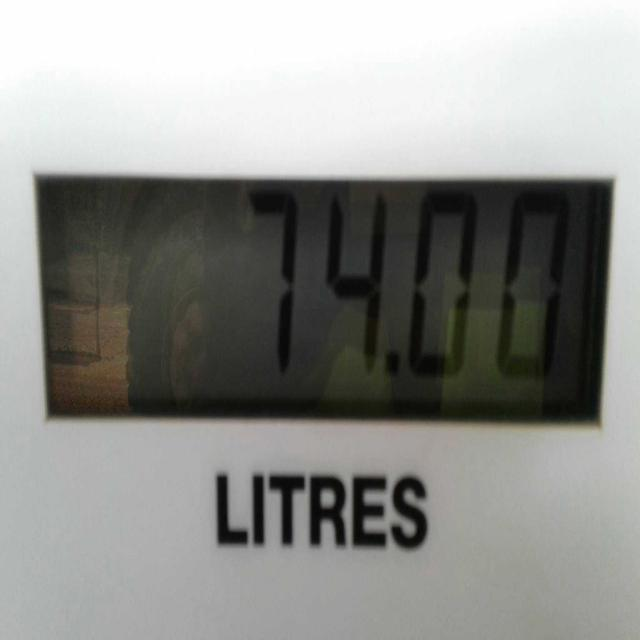.: (386, 350, 401, 380)
0: (411, 192, 475, 381), (503, 192, 561, 374)
4: (328, 193, 383, 371)
7: (248, 186, 299, 372)
